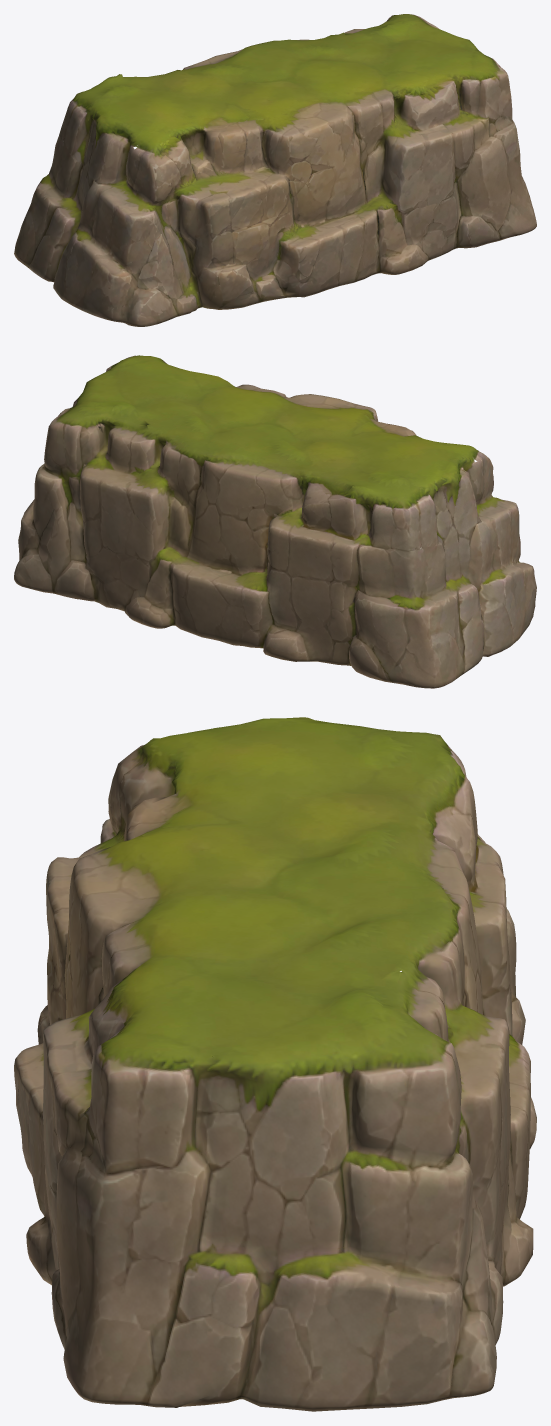
The model's file is cliff_module.glb.
The picture shows the model from 3 angles, top to bottom: view 1: azimuth 30°, elevation 25°; view 2: azimuth 150°, elevation 25°; view 3: azimuth 270°, elevation 25°; orthographic projection. The views are drawn at different scales.
Parts seen in each view (by area): view 1: tripo_node_9fc16e53; view 2: tripo_node_9fc16e53; view 3: tripo_node_9fc16e53.
Part boxes in pixels (left/top/right/bottom): tripo_node_9fc16e53: left=14, top=14, right=536, bottom=326; tripo_node_9fc16e53: left=14, top=355, right=536, bottom=688; tripo_node_9fc16e53: left=14, top=717, right=536, bottom=1411.
Size of the model in its own units: 97.57 by 35.57 by 50.74.
Materials: 1 (1 with a texture image).
